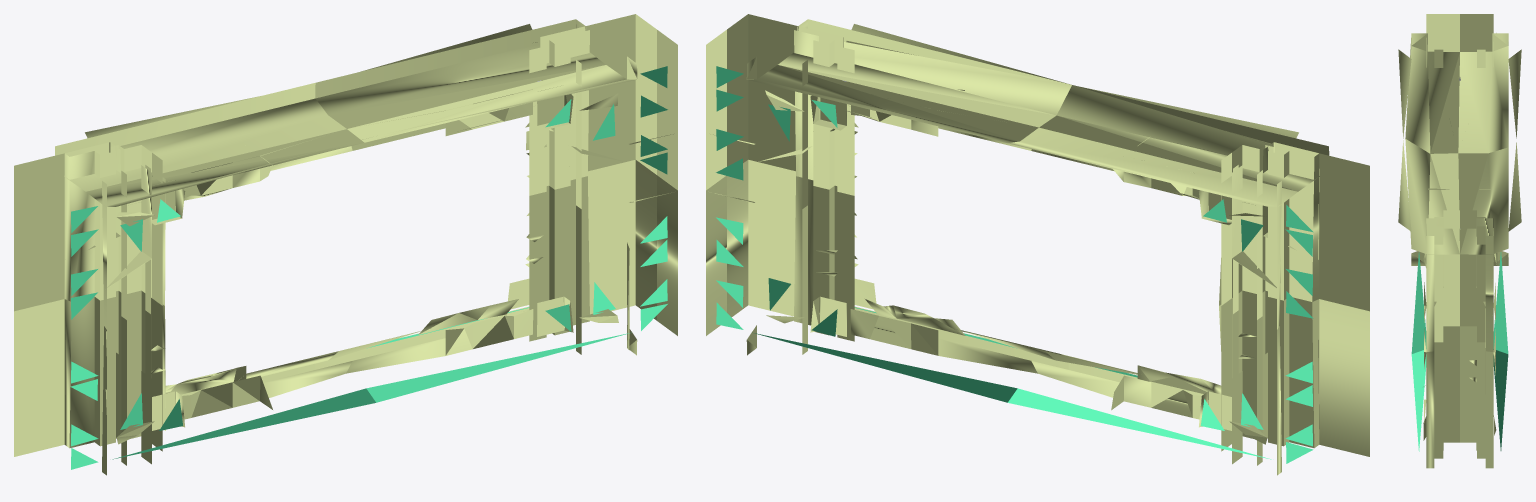
Rendered from grimhex_building_3_floor_landingpad_corner_48x24_a_lod5.glb.
The picture shows the model from 3 angles, left to right: view 1: azimuth 30°, elevation 25°; view 2: azimuth 150°, elevation 25°; view 3: azimuth 270°, elevation 25°; orthographic projection. The views are drawn at different scales.
Size of the model in its own units: 80 by 35.9 by 17.25.
